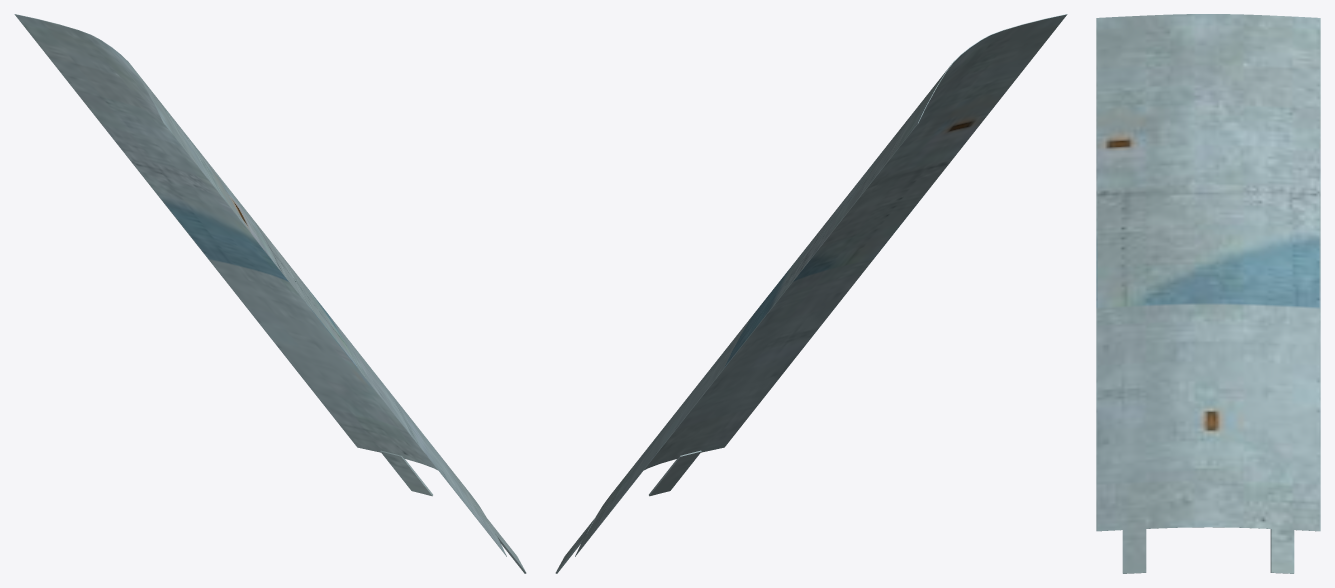
The model's file is f18Airbrake.glb.
3 views of the same model, side by side, from view 1: azimuth 30°, elevation 25°; view 2: azimuth 150°, elevation 25°; view 3: azimuth 270°, elevation 25° (orthographic). The views are drawn at different scales.
Parts seen in each view (by area): view 1: SU27spoiler; view 2: SU27spoiler; view 3: SU27spoiler.
Boxes of the visible parts, box(x1,y1,x2,y2) form: SU27spoiler: box(14, 14, 526, 573); SU27spoiler: box(555, 14, 1067, 573); SU27spoiler: box(1096, 14, 1320, 573).
Bounding box in the file's own units: 1.09 × 1.55 × 0.7317.
Materials: 1 (1 with a texture image).
